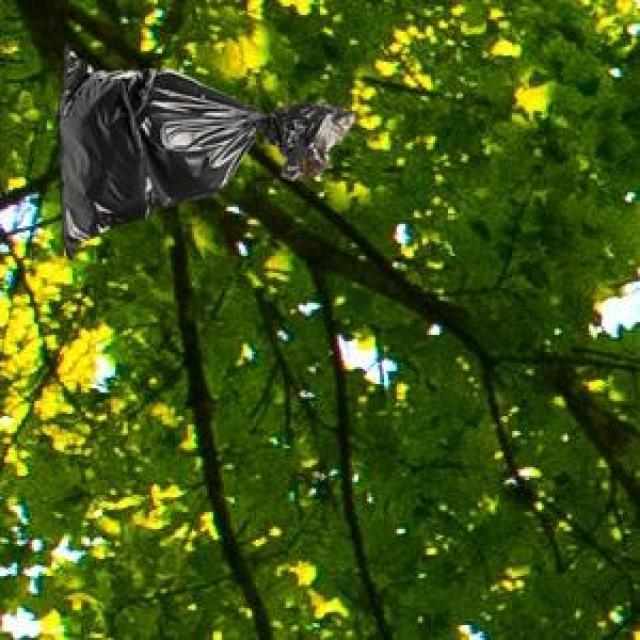Vinyl: (60, 49, 354, 248)
